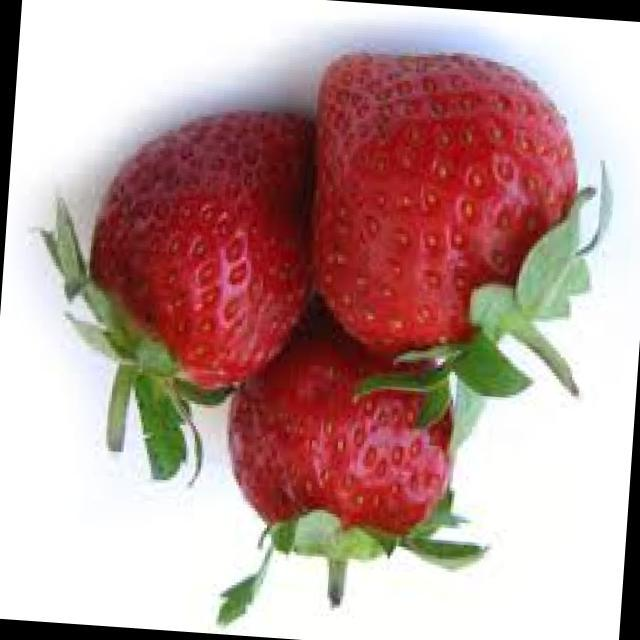Strawberry: (10, 11, 633, 640)
